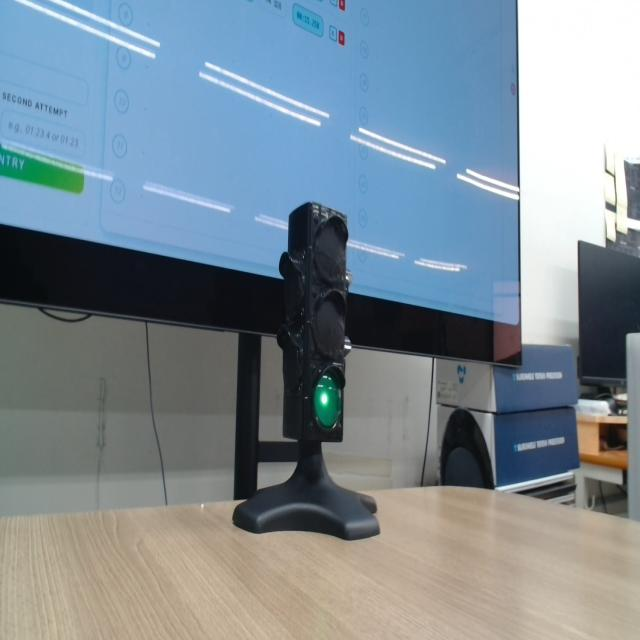green_light: (314, 373, 341, 429)
